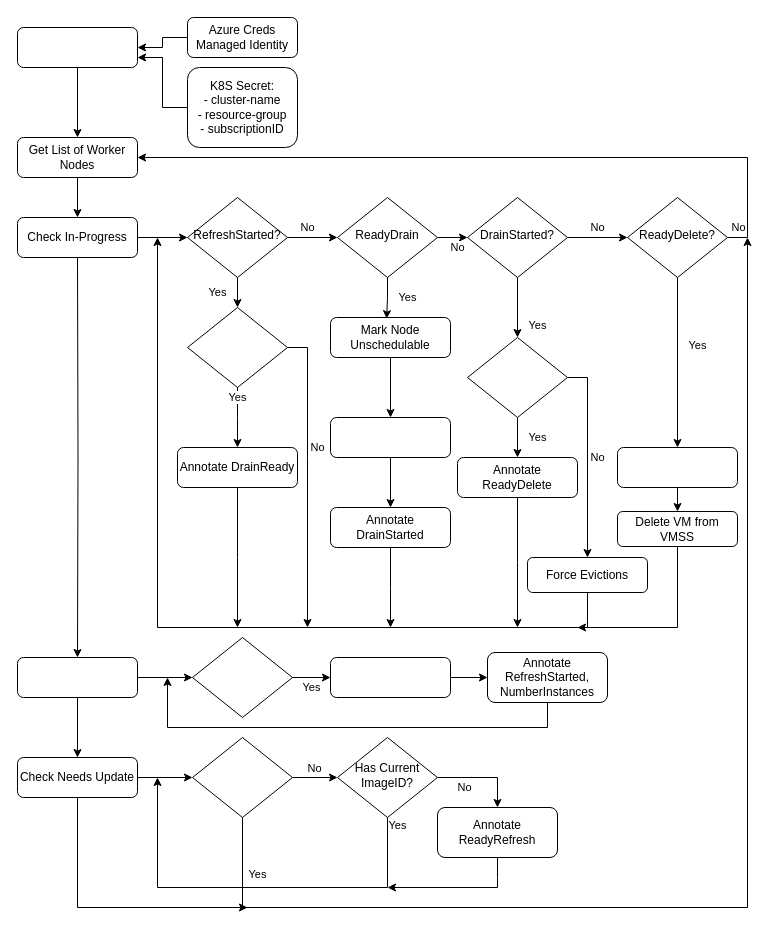
Some shapes in this 773 by 933 pixel diagram are drawn without their labels. Each missing label, with the box of its shape:
At Concurrency Max?: (192, 736, 292, 818)
Check ScaleUps Required: (16, 656, 138, 698)
Delete Node From Cluster: (616, 446, 738, 488)
Node Empty?: (466, 336, 568, 418)
RefreshReady?: (192, 636, 292, 718)
Replacement Ready?: (186, 306, 288, 388)
Scale Up VMSS: (330, 656, 450, 698)
Start Controller Loop Reconcile Nodes: (16, 26, 138, 68)
Start Drain: (330, 416, 450, 458)
